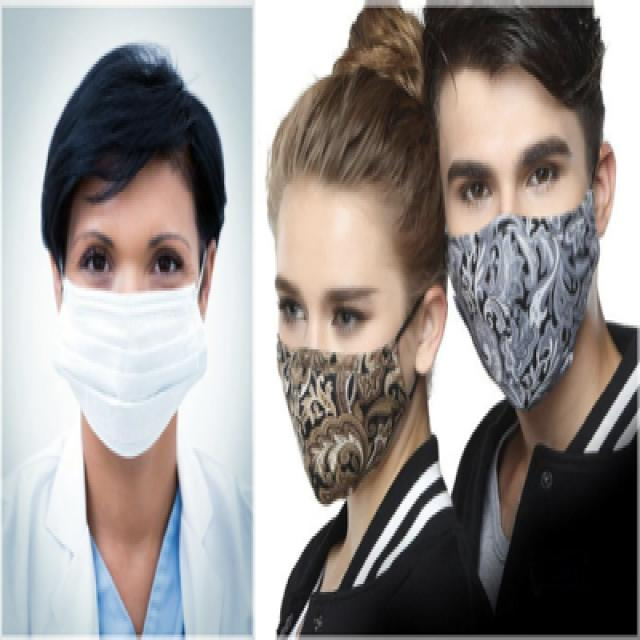with_mask: (444, 120, 598, 408), (62, 216, 202, 462), (276, 262, 410, 504)
